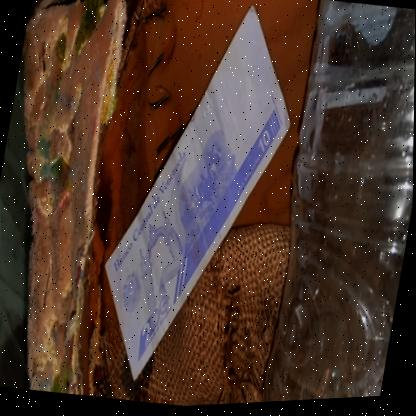ten-back-vef: (84, 0, 310, 401)
